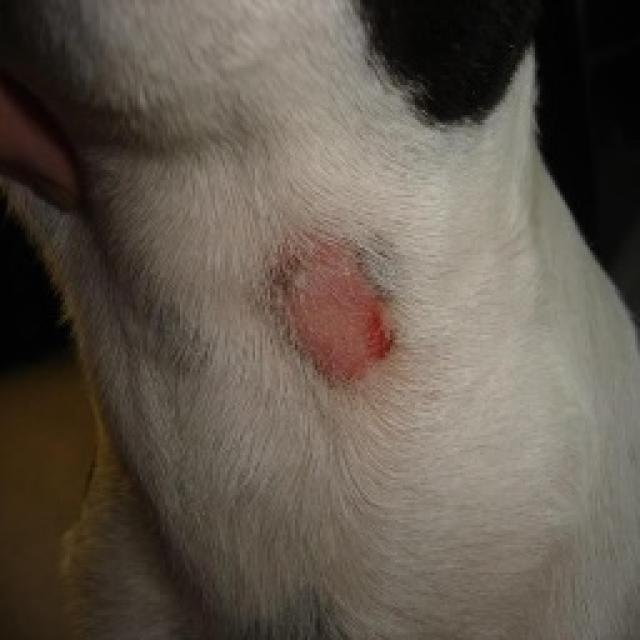hotspot: (286, 253, 390, 375)
